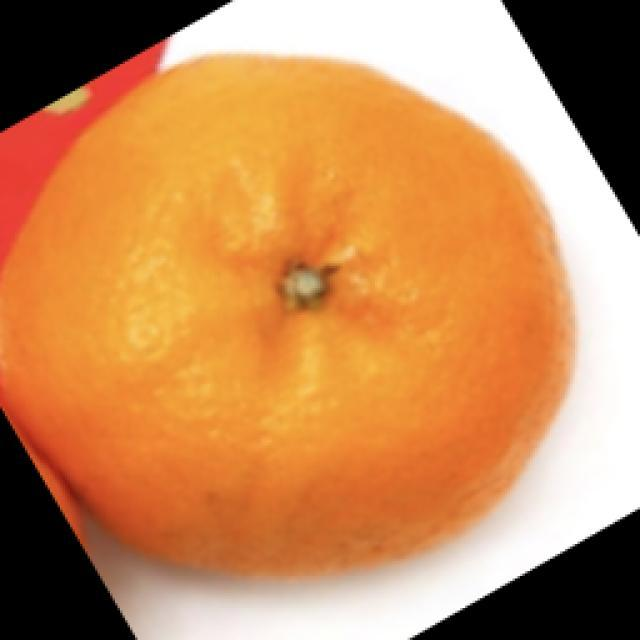matang: (0, 55, 571, 572)
